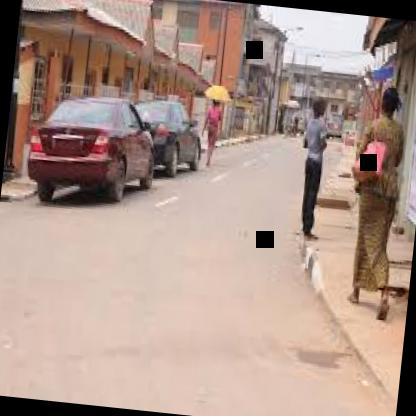car: (22, 89, 171, 224), (115, 76, 215, 184)
